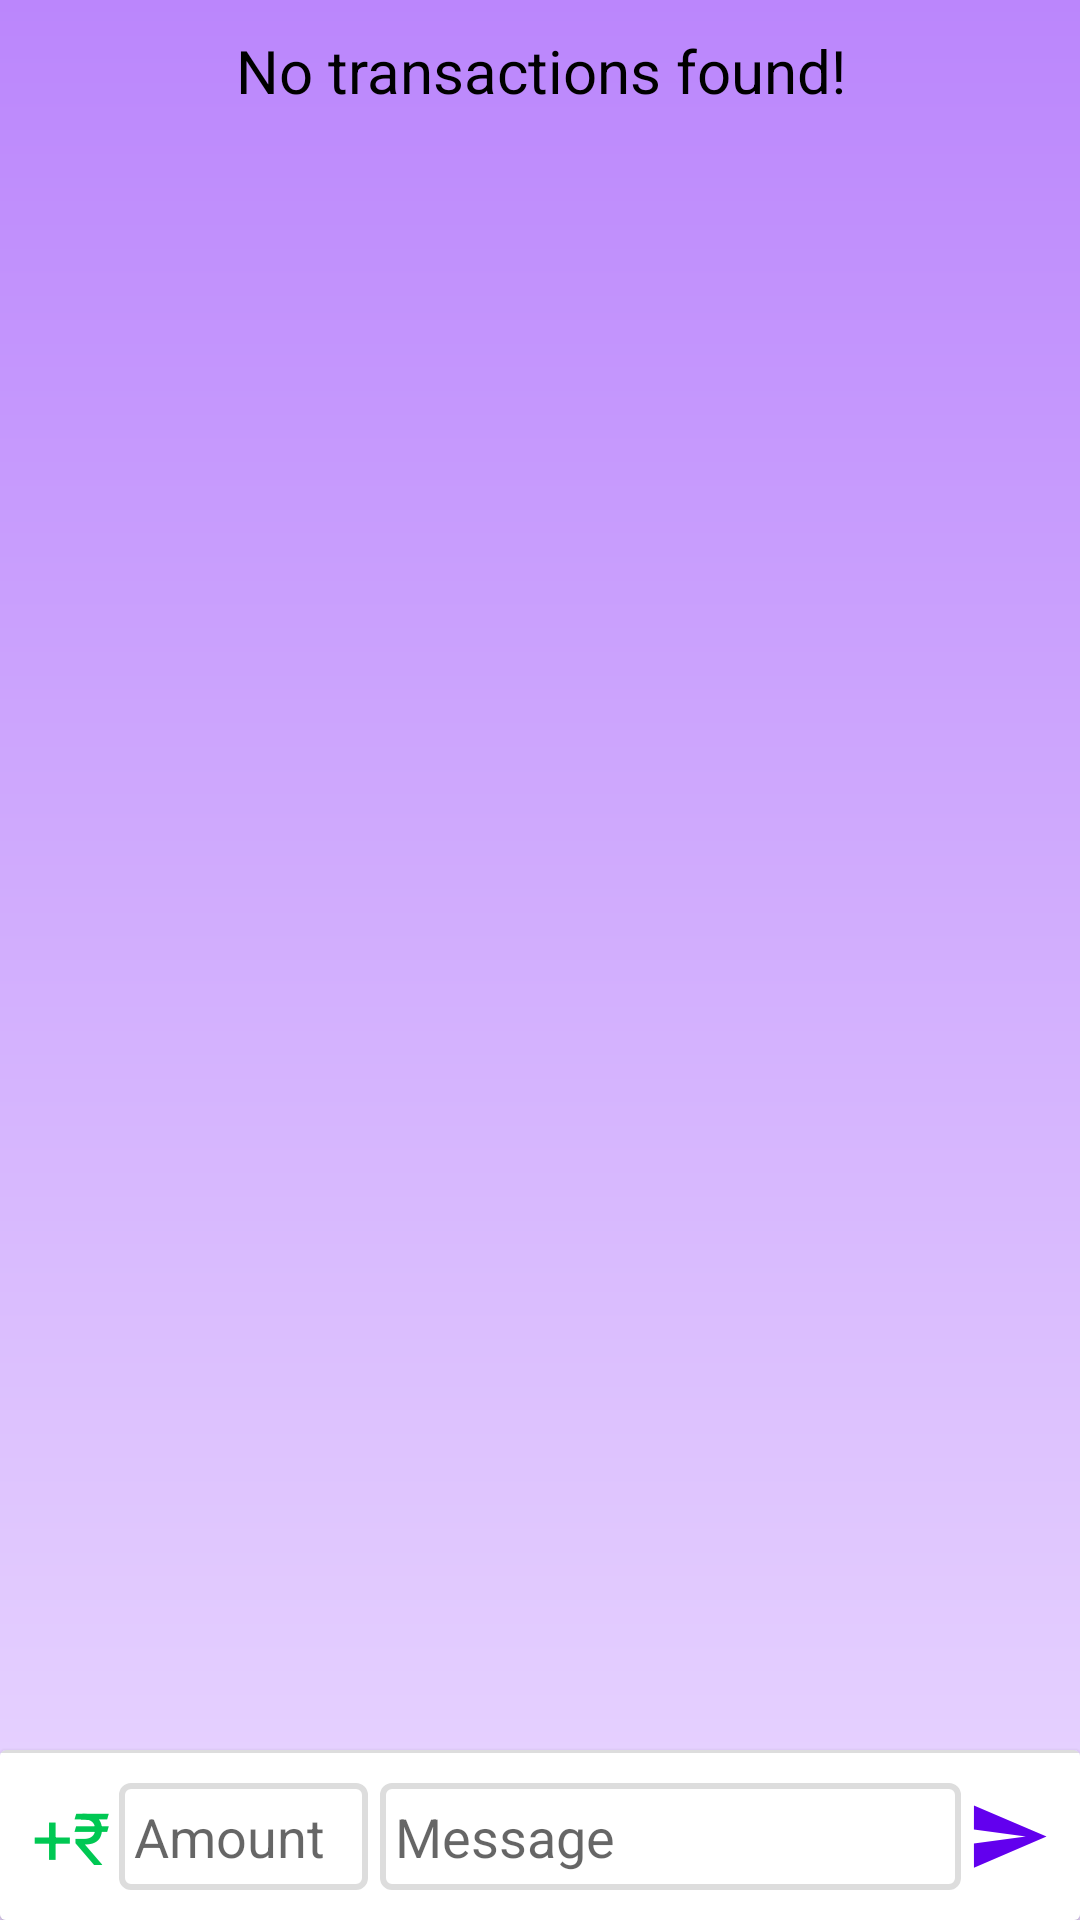

Point at icon controls on the screen. Image size 1080*1920, points as (x=x, y=y).
send: (x=1010, y=1836)
